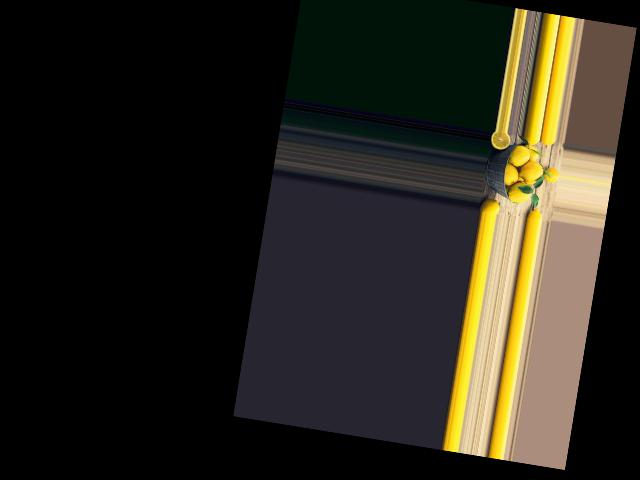lemon: (501, 143, 531, 170)
